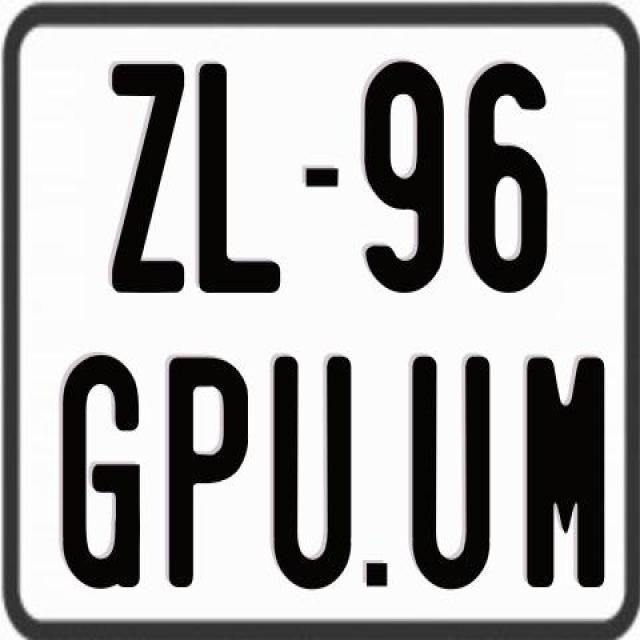6: (466, 58, 550, 294)
9: (360, 61, 444, 293)
G: (60, 352, 144, 590)
L: (195, 64, 282, 296)
M: (524, 356, 604, 594)
P: (170, 352, 253, 582)
U: (272, 356, 356, 594), (408, 355, 488, 595)
Z: (110, 59, 190, 290)
